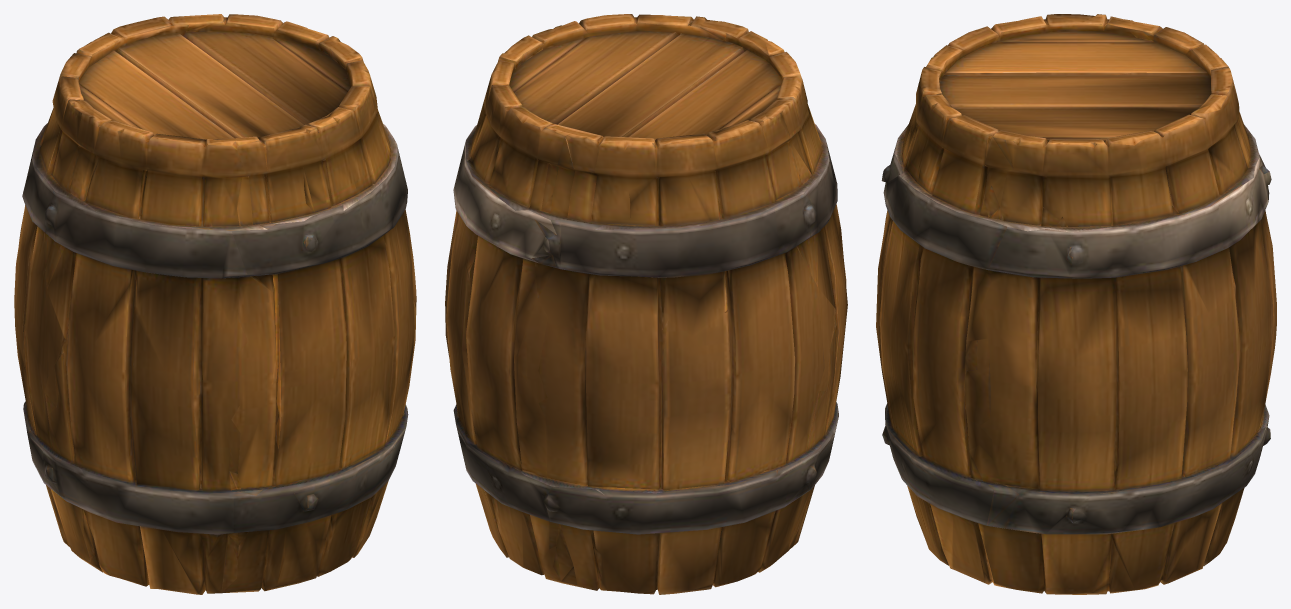
Rendered from barrel-iron.glb.
The picture shows the model from 3 angles, left to right: view 1: azimuth 30°, elevation 25°; view 2: azimuth 150°, elevation 25°; view 3: azimuth 270°, elevation 25°; orthographic projection.
Parts seen in each view (by area): view 1: Mesh1.0; view 2: Mesh1.0; view 3: Mesh1.0.
Part boxes in pixels (box(x1,y1,x2,y2)): Mesh1.0: box(14, 14, 416, 594); Mesh1.0: box(445, 14, 847, 594); Mesh1.0: box(876, 14, 1276, 594).
Bounding box in the file's own units: 1.52 × 1.9 × 1.52.
1 material, 1 textured.
